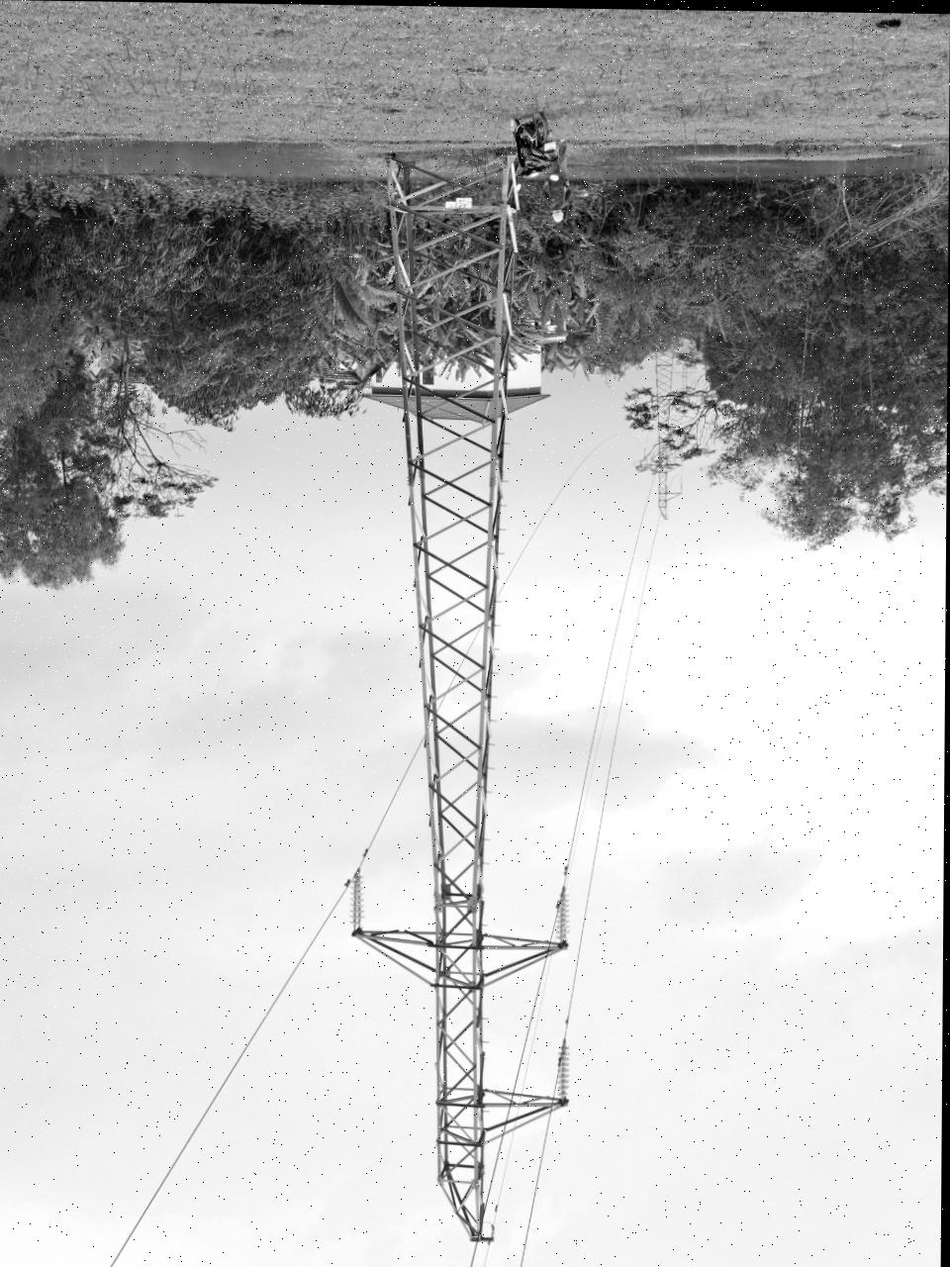tower: (334, 117, 592, 1265)
